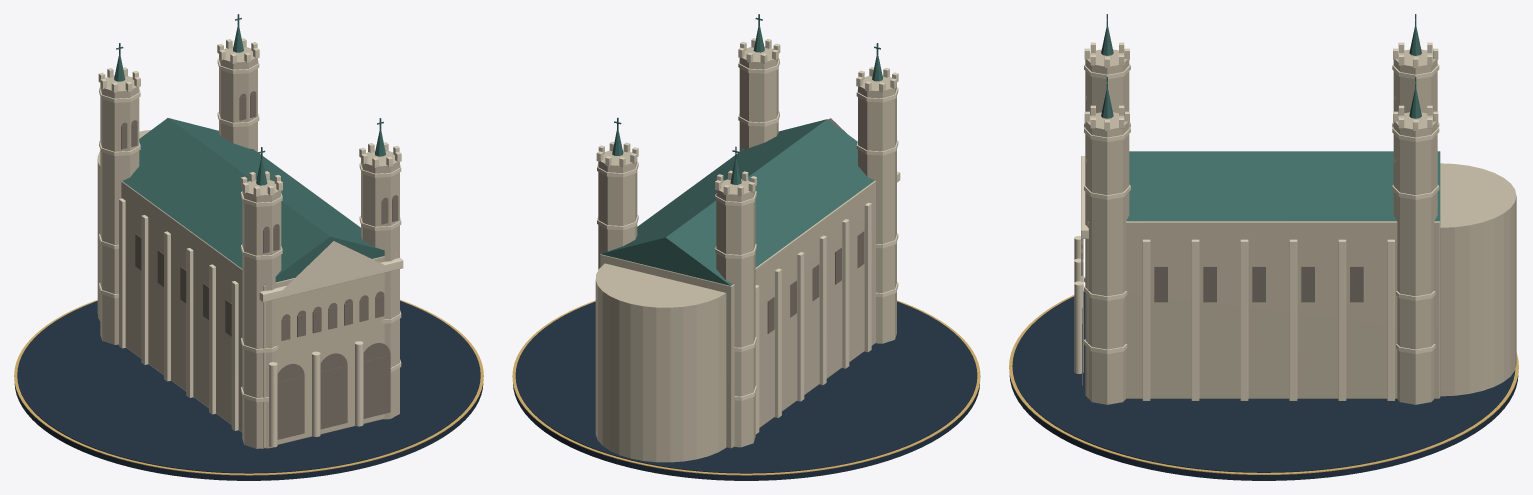
File: miniature-source.glb
3 views of the same model, side by side, from view 1: azimuth 30°, elevation 25°; view 2: azimuth 150°, elevation 25°; view 3: azimuth 270°, elevation 25° (orthographic). The views are drawn at different scales.
Visible parts, largest first — view 1: Vestige navy top, Present basilica nave, Green nave roof, Octagonal corner tower, Octagonal corner tower.001, Octagonal corner tower.002, Octagonal corner tower.003, Vestige navy plinth, Vestige gold decorative rim, West gable, Porch dark recess, Porch dark recess.002 (+12 smaller); view 2: Vestige navy top, Eastern apse, Green nave roof, Present basilica nave, Octagonal corner tower.001, Octagonal corner tower, Octagonal corner tower.003, Octagonal corner tower.002, Vestige navy plinth, Vestige gold decorative rim, Flank buttress, Flank buttress.002 (+4 smaller); view 3: Present basilica nave, Vestige navy top, Green nave roof, Eastern apse, Octagonal corner tower.002, Octagonal corner tower.003, Vestige navy plinth, Vestige gold decorative rim, Octagonal corner tower.001, Octagonal corner tower, Flank buttress.009, Flank buttress.001 (+5 smaller).
Part boxes in pixels (bbox=[...]): Vestige navy top: bbox=[17, 301, 480, 473]; Present basilica nave: bbox=[121, 149, 395, 448]; Green nave roof: bbox=[122, 118, 395, 285]; Octagonal corner tower: bbox=[242, 179, 281, 448]; Octagonal corner tower.001: bbox=[100, 75, 139, 344]; Octagonal corner tower.002: bbox=[361, 151, 399, 419]; Octagonal corner tower.003: bbox=[219, 47, 257, 151]; Vestige navy plinth: bbox=[14, 384, 483, 480]; Vestige gold decorative rim: bbox=[14, 299, 483, 475]; West gable: bbox=[279, 241, 387, 293]; Porch dark recess: bbox=[277, 376, 304, 439]; Porch dark recess.002: bbox=[363, 355, 390, 418]; Vestige navy top: bbox=[515, 301, 977, 473]; Eastern apse: bbox=[595, 263, 726, 462]; Green nave roof: bbox=[601, 119, 874, 285]; Present basilica nave: bbox=[600, 149, 875, 448]; Octagonal corner tower.001: bbox=[716, 179, 755, 447]; Octagonal corner tower: bbox=[858, 75, 896, 343]; Octagonal corner tower.003: bbox=[598, 150, 637, 269]; Octagonal corner tower.002: bbox=[739, 46, 778, 151]; Vestige navy plinth: bbox=[513, 384, 979, 480]; Vestige gold decorative rim: bbox=[512, 300, 980, 475]; Flank buttress: bbox=[864, 202, 871, 352]; Flank buttress.002: bbox=[842, 219, 849, 368]; Present basilica nave: bbox=[1087, 221, 1440, 398]; Vestige navy top: bbox=[1012, 291, 1515, 472]; Green nave roof: bbox=[1087, 151, 1440, 221]; Eastern apse: bbox=[1440, 163, 1516, 396]; Octagonal corner tower.002: bbox=[1085, 112, 1129, 404]; Octagonal corner tower.003: bbox=[1393, 112, 1437, 404]; Vestige navy plinth: bbox=[1009, 375, 1518, 480]; Vestige gold decorative rim: bbox=[1009, 290, 1518, 474]; Octagonal corner tower.001: bbox=[1393, 49, 1437, 115]; Octagonal corner tower: bbox=[1085, 49, 1129, 115]; Flank buttress.009: bbox=[1338, 239, 1346, 400]; Flank buttress.001: bbox=[1142, 239, 1150, 400].
Size of the model in its own units: 52.1 by 36.95 by 52.1.
